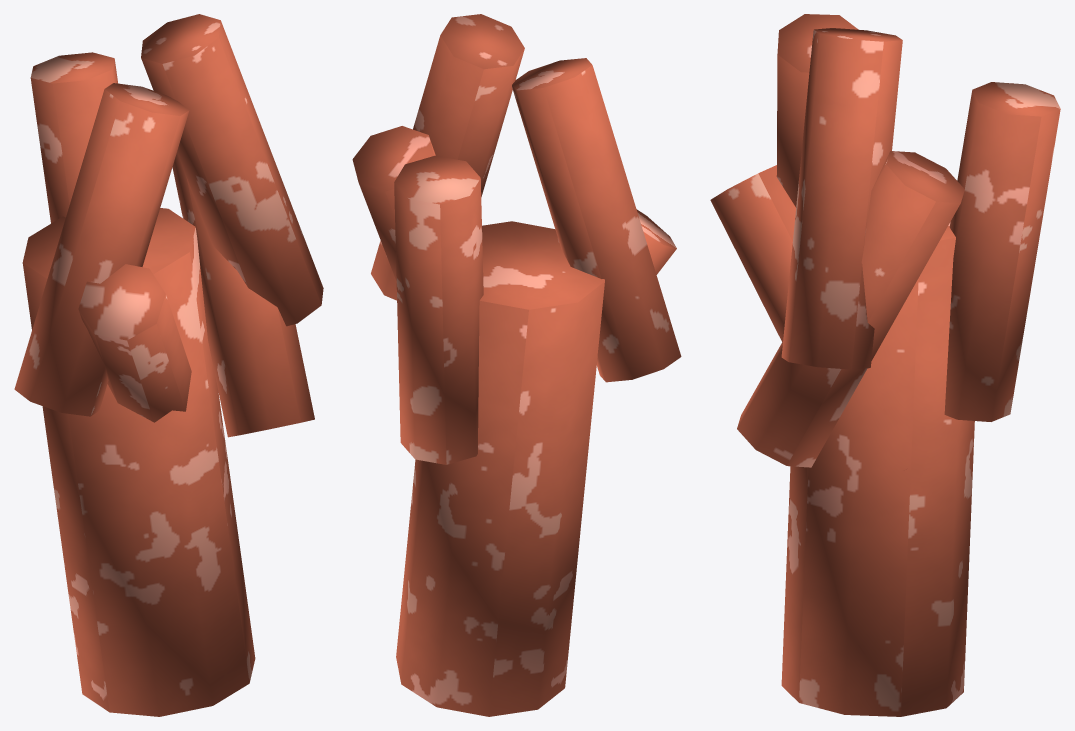
File: coral_a.fbx
3 renders of one model, left to right at view 1: azimuth 30°, elevation 25°; view 2: azimuth 150°, elevation 25°; view 3: azimuth 270°, elevation 25°, orthographic. The views are drawn at different scales.
Parts seen in each view (by area): view 1: coral_a; view 2: coral_a; view 3: coral_a.
Boxes of the visible parts, box(x1,y1,x2,y2) form: coral_a: box(14, 14, 323, 716); coral_a: box(352, 14, 681, 716); coral_a: box(710, 14, 1060, 716).
Size of the model in its own units: 85.6 by 181 by 84.5.
